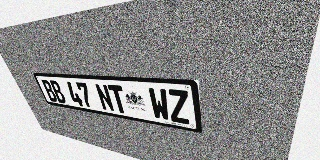4: (64, 81, 84, 107)
7: (75, 82, 95, 108)
B: (40, 79, 59, 102), (49, 80, 67, 104)
N: (94, 83, 115, 112)
T: (107, 84, 129, 114)
W: (147, 87, 171, 121)
Z: (167, 89, 191, 125)
